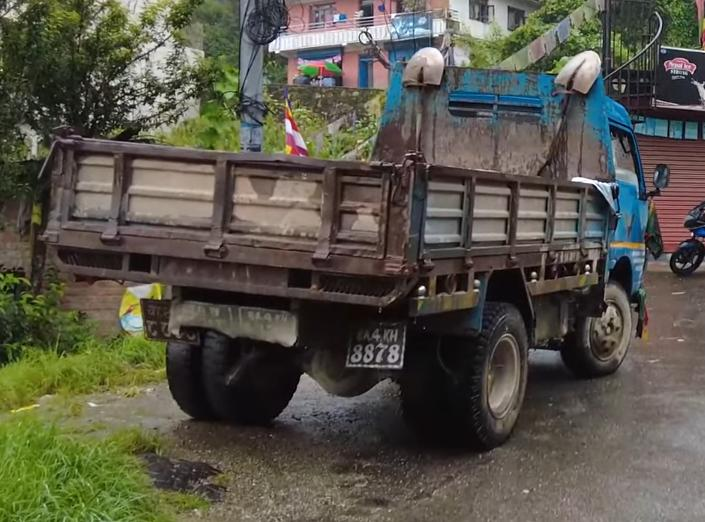bike: (662, 195, 705, 284)
mini_truck: (38, 42, 678, 456)
